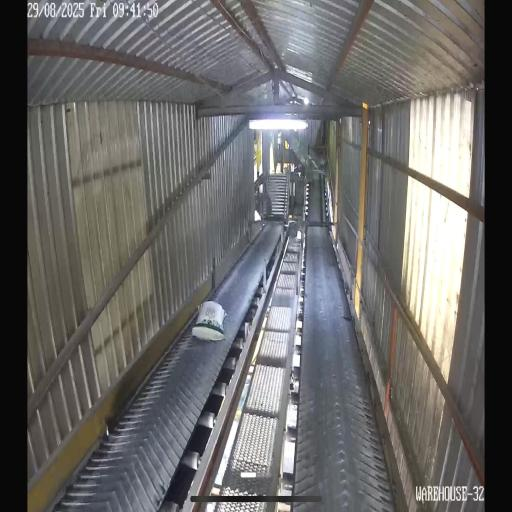c-belt-sack-count: (192, 301, 226, 339)
